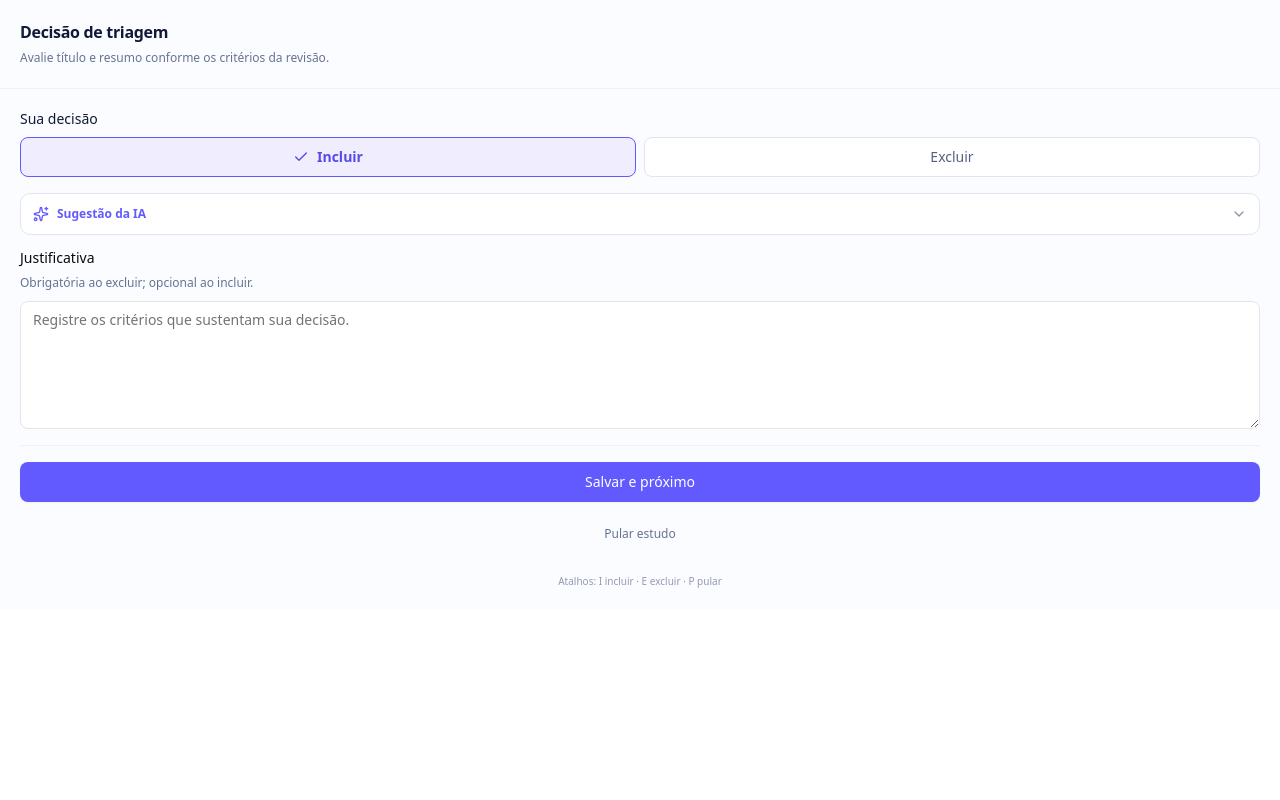
Test case: ScreeningDecisionTool › keeps AI secondary and exposes guidance without relying on placeholders
Expected: the heading "Decisão de triagem" is shown, [20, 21, 168, 43]
Expected: the text "Obrigatória ao excluir; opcional ao incluir." is shown, [20, 274, 253, 291]
Click the heading "Sugestão da IA": (102, 214) [33, 205, 1247, 222]
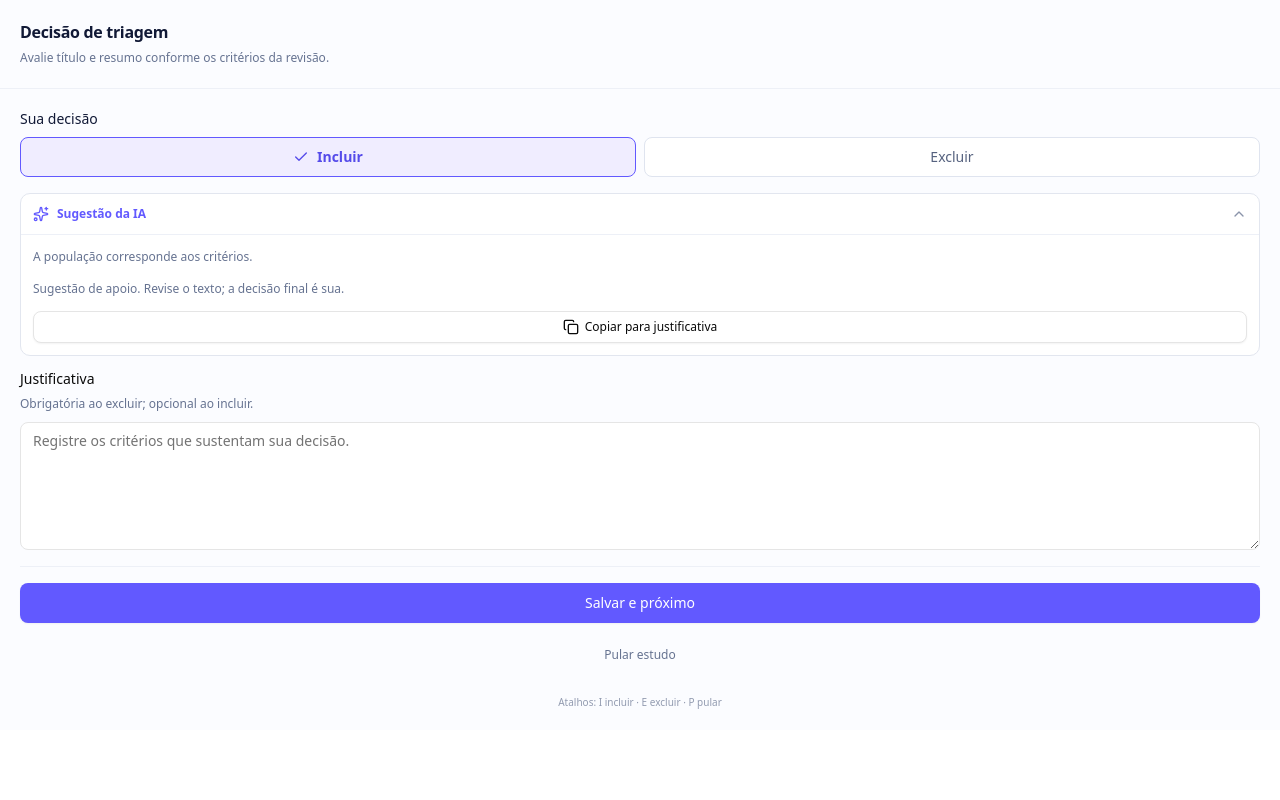
Result: the button "Copiar para justificativa" is shown at [33, 311, 1247, 343]
